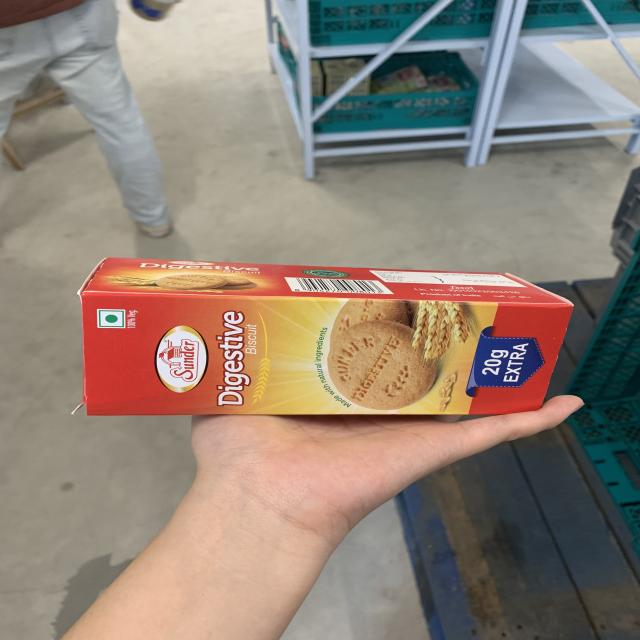object_name: (80, 260, 540, 411)
